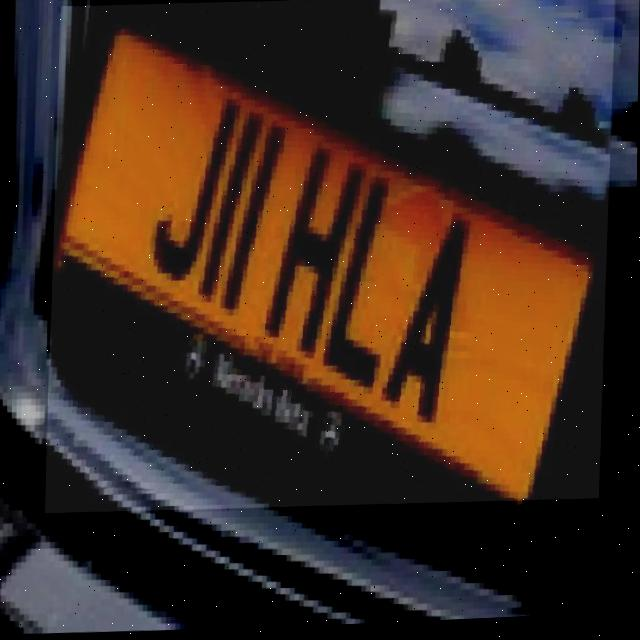LicensePlate: (45, 0, 615, 523)
